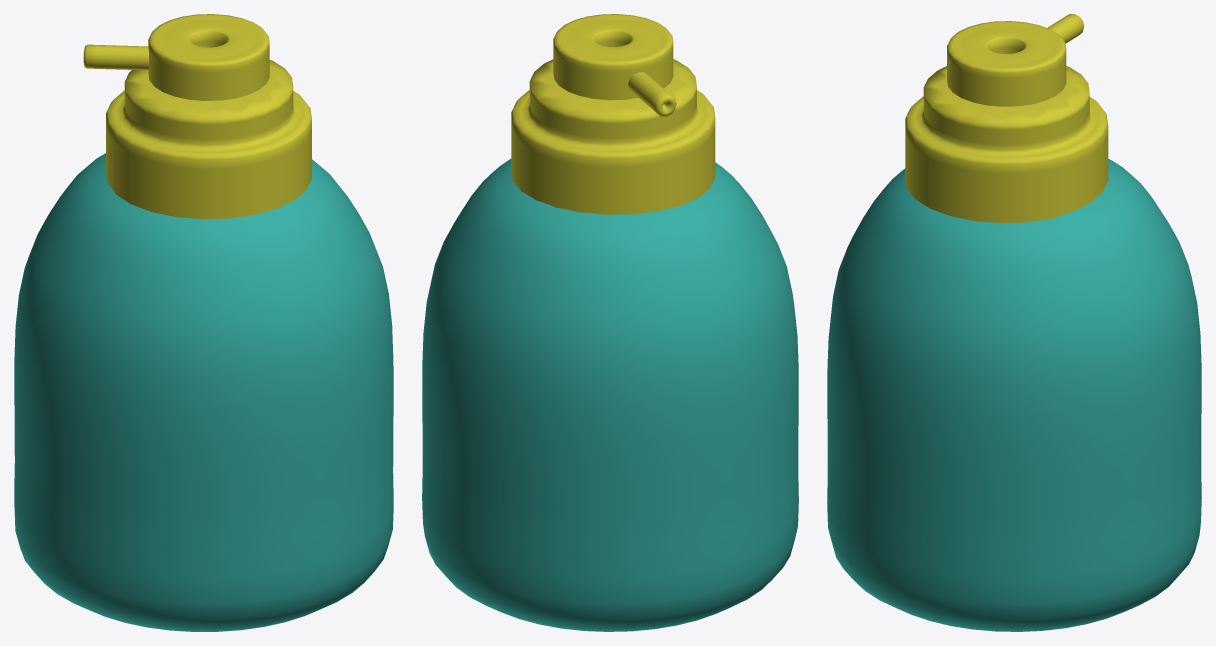
Rendered from Shower_gel.FBX.
3 renders of one model, left to right at view 1: azimuth 30°, elevation 25°; view 2: azimuth 150°, elevation 25°; view 3: azimuth 270°, elevation 25°, orthographic.
Visible parts, largest first — view 1: shower_gel; view 2: shower_gel; view 3: shower_gel.
Part boxes in pixels (x1,y1,x2,y2): shower_gel: [14, 14, 393, 631]; shower_gel: [422, 14, 798, 631]; shower_gel: [827, 14, 1201, 631].
Bounding box in the file's own units: 2.16 × 2.16 × 3.41.
